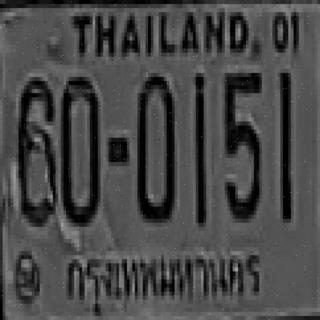N00: (135, 69, 175, 219), (62, 75, 99, 225)
N01: (279, 71, 290, 221), (193, 73, 203, 223)
N05: (222, 69, 259, 219)
N06: (16, 77, 58, 223)
P04: (60, 240, 266, 309)
